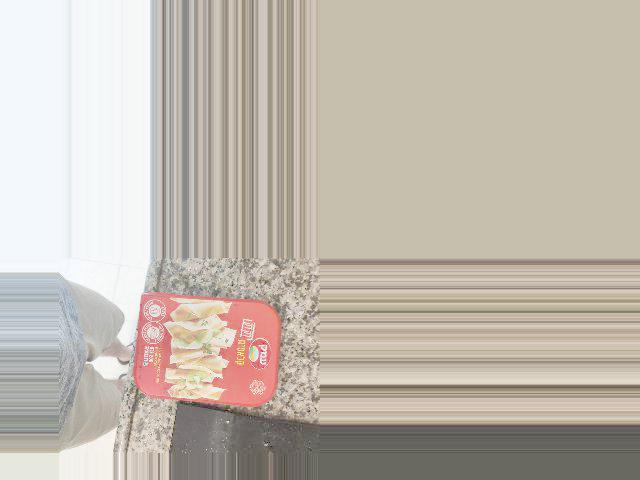cheese: (104, 306, 263, 427)
